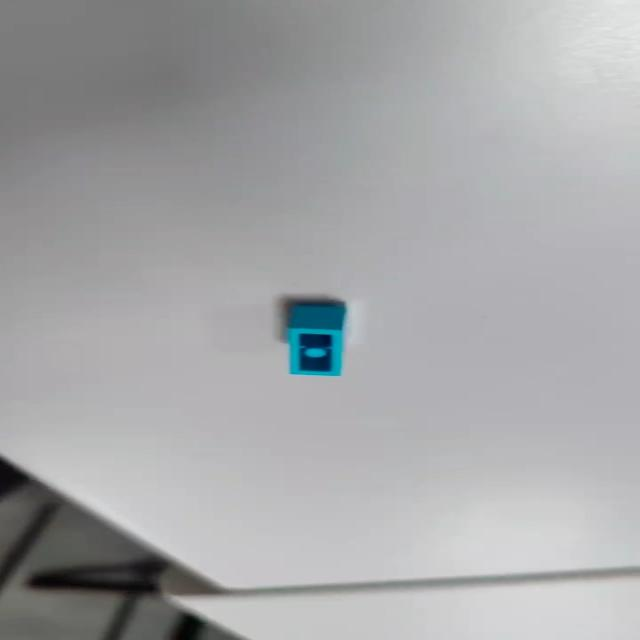C2x1x1: (282, 298, 346, 377)
